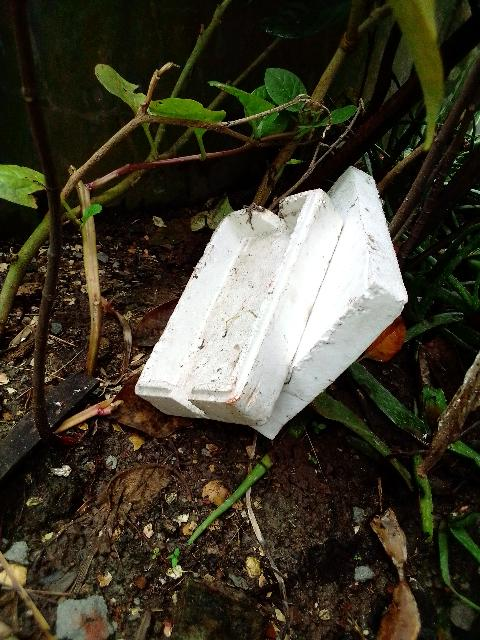cocksheet: (125, 165, 320, 424), (272, 178, 423, 436)
